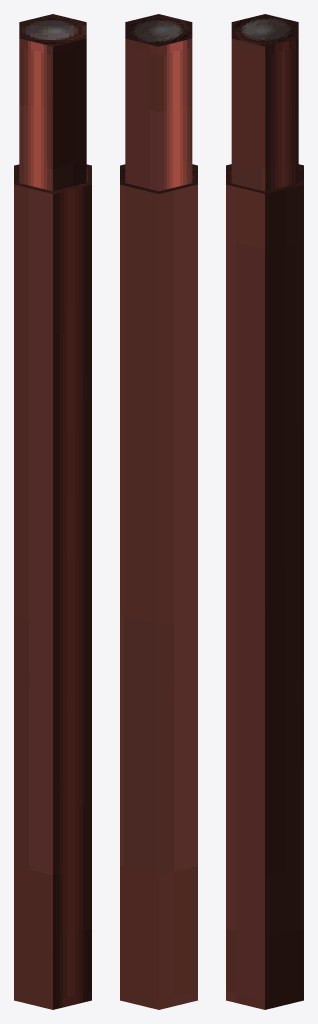
Rendered from daredevil_baton_mesh.glb.
3 renders of one model, left to right at view 1: azimuth 90°, elevation 25°; view 2: azimuth 150°, elevation 25°; view 3: azimuth 330°, elevation 25°, orthographic.
Parts seen in each view (by area): view 1: weapons/daredevil_baton_mesh_0; view 2: weapons/daredevil_baton_mesh_0; view 3: weapons/daredevil_baton_mesh_0.
Boxes of the visible parts, left/top/right/bottom form: weapons/daredevil_baton_mesh_0: left=14, top=14, right=91, bottom=1009; weapons/daredevil_baton_mesh_0: left=120, top=14, right=197, bottom=1009; weapons/daredevil_baton_mesh_0: left=226, top=14, right=303, bottom=1009.
Size of the model in its own units: 0.1699 by 2 by 0.1471.
Materials: 1 (1 with a texture image).
